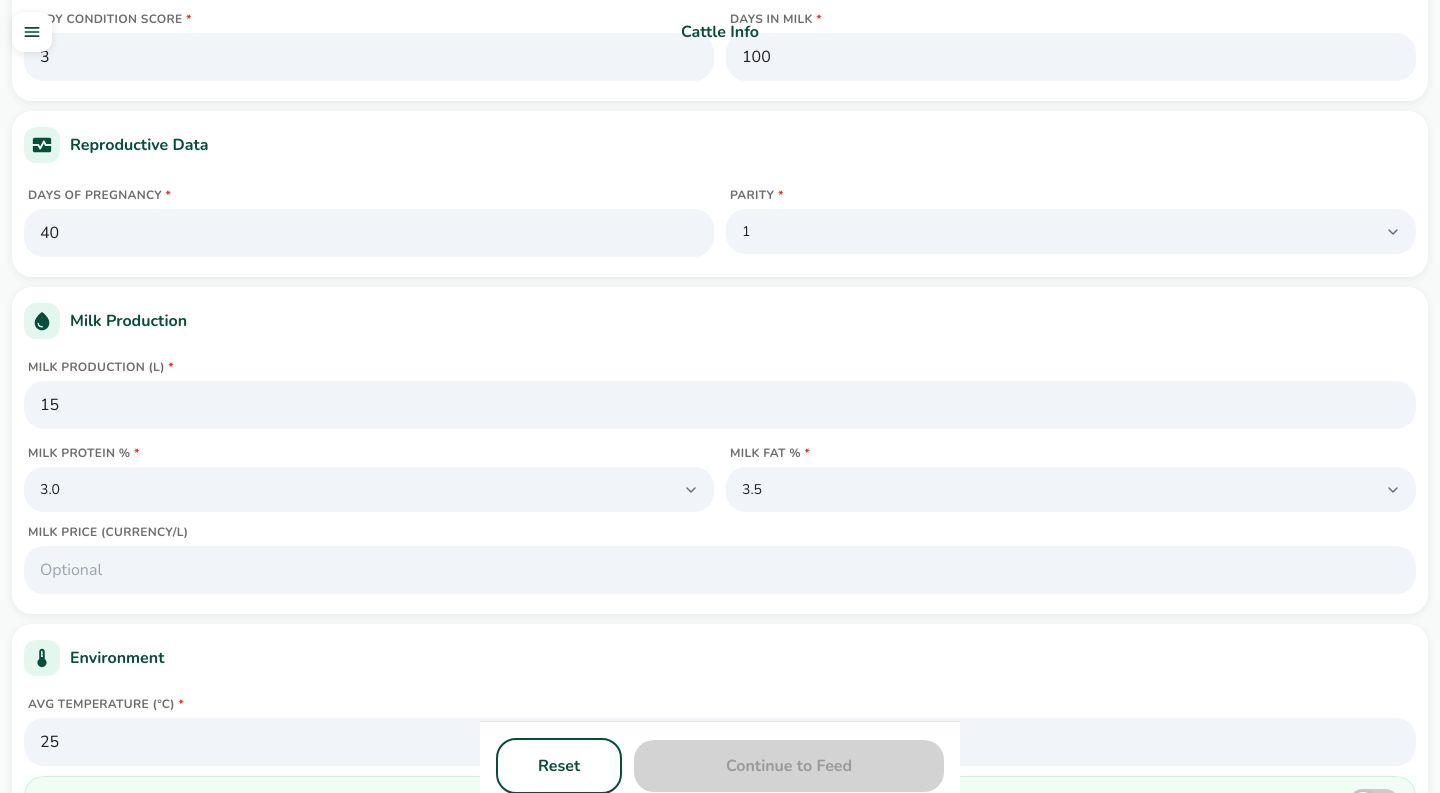
it: Cattle Info — field validation handlers › handleMilkProduction: flags out-of-range against the spec (1-35)
(page scrolled)
Replace the text in the number field labelled "Milk Production (L) *" with "40" at (720, 405), box [24,381,1416,429]
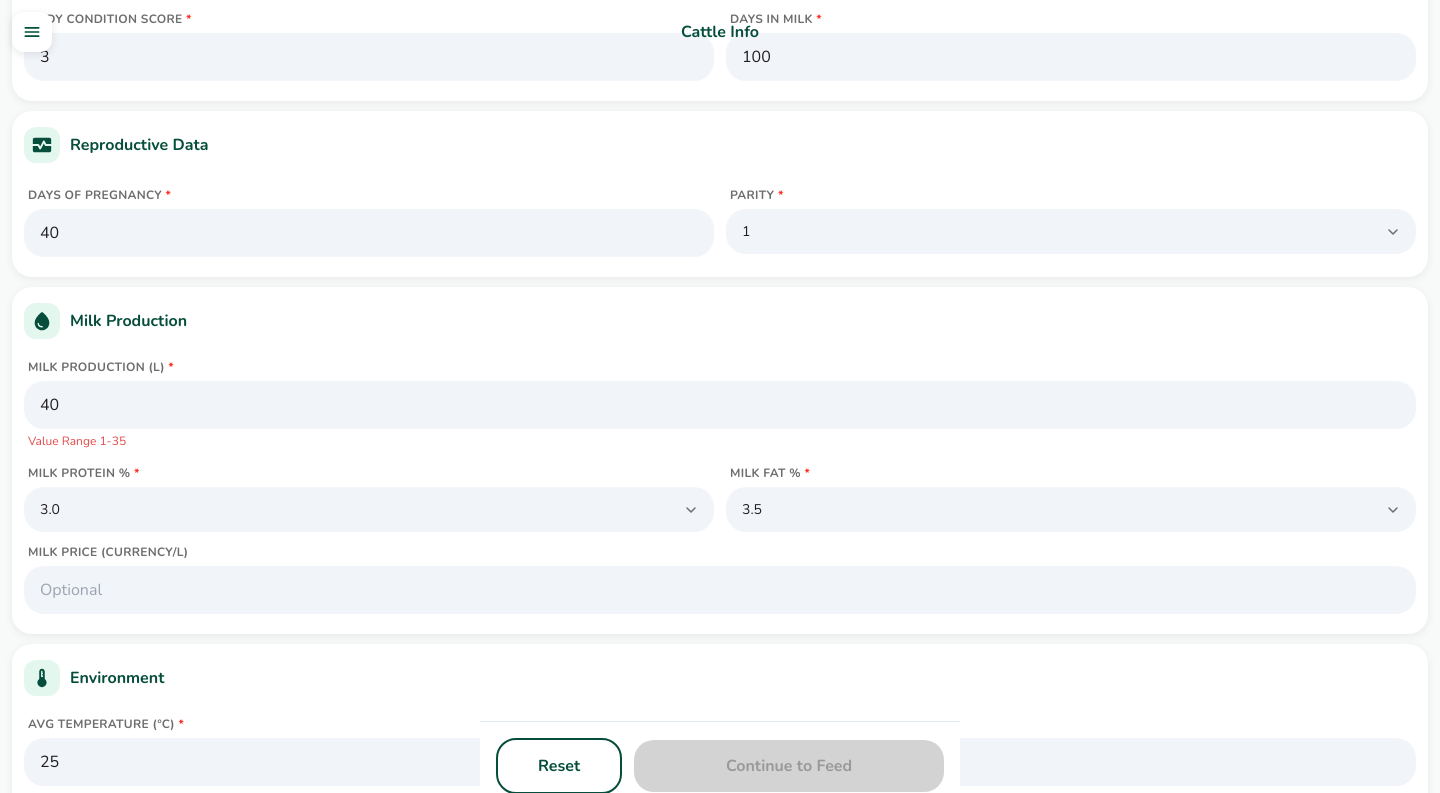
Expected: the text "Value Range 1-35" is shown, [28,433,126,449]
Replace the text in the number field labelled "Milk Production (L) *" with "30" at (720, 405), box [24,381,1416,429]
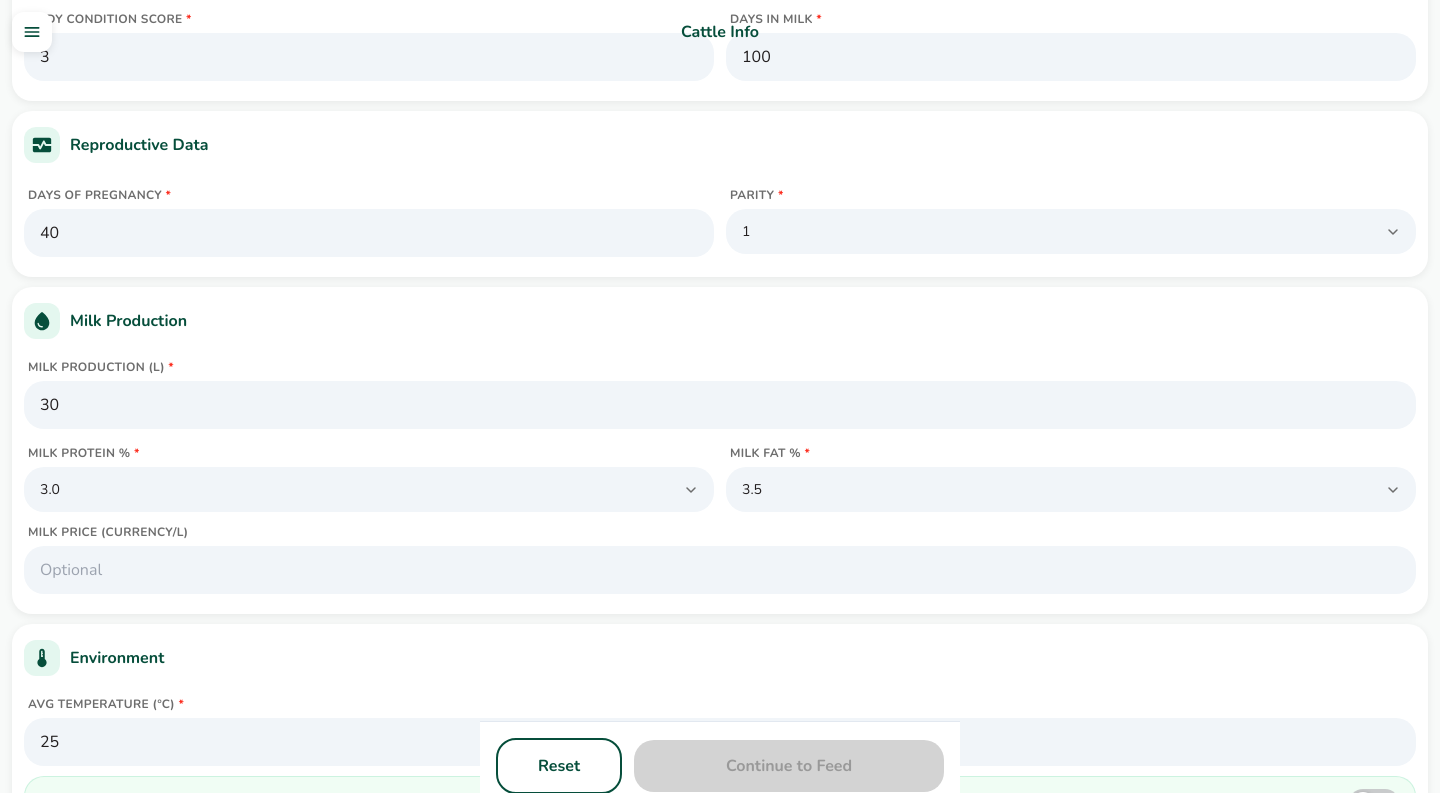
Expected: the text "Value Range 1-35" is gone
